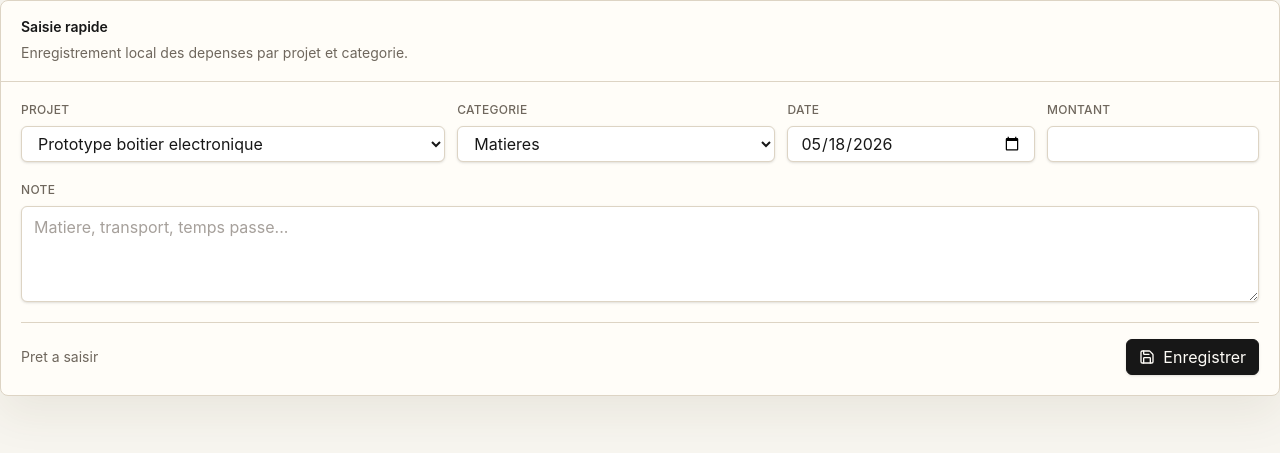
ExpenseEntryForm › does not save an empty amount as a zero expense
Click the button "Enregistrer": (1193, 357) [1126,339,1259,375]
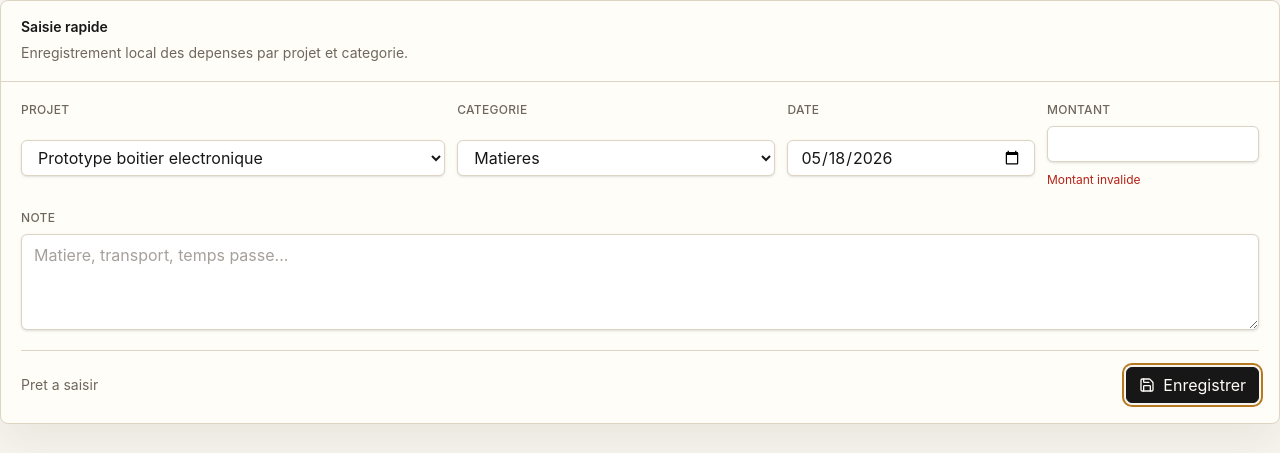
Expected: the text "Montant invalide" is shown, [1047,172,1140,187]
